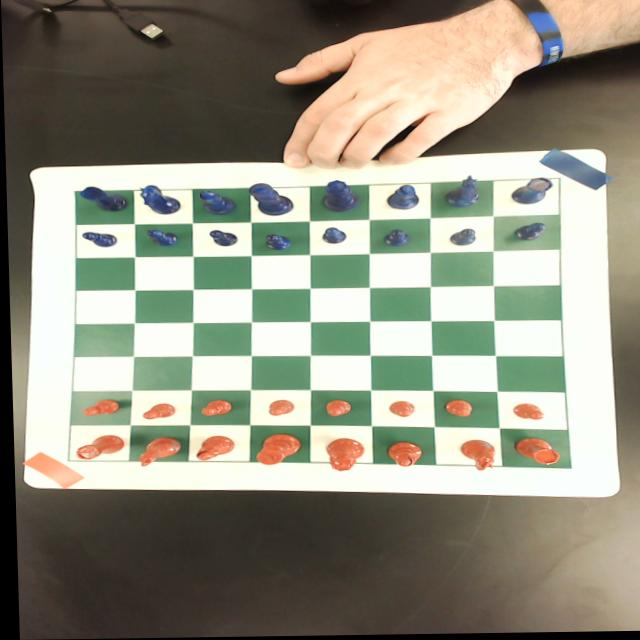B: (382, 184, 418, 212), (197, 191, 234, 215)
K: (246, 184, 293, 216)
N: (136, 183, 179, 216), (440, 174, 479, 209)
P: (509, 223, 544, 244), (80, 232, 116, 249), (144, 229, 177, 247), (378, 230, 410, 248), (261, 234, 291, 252), (446, 230, 475, 248), (207, 230, 235, 248), (320, 229, 344, 245)
Q: (317, 181, 358, 214)
R: (505, 178, 553, 207), (77, 186, 126, 213)
b: (191, 435, 233, 462), (383, 443, 421, 469)
cb: (65, 180, 567, 470)
k: (251, 435, 299, 466)
n: (133, 436, 180, 470), (456, 441, 492, 472)
p: (505, 401, 546, 426), (80, 395, 119, 420), (195, 397, 235, 419), (382, 398, 419, 420), (137, 402, 174, 423), (264, 397, 292, 418), (444, 397, 472, 418), (319, 401, 352, 417)
q: (322, 439, 361, 473)
r: (510, 439, 558, 468), (70, 435, 121, 461)
